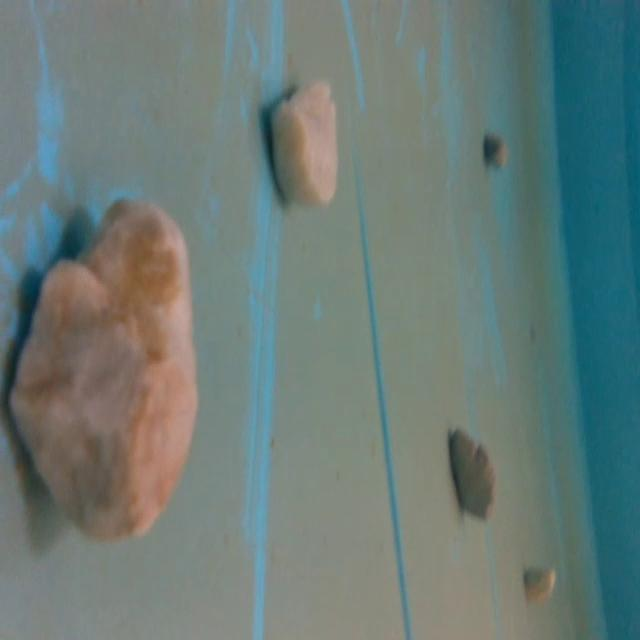rock: (0, 190, 206, 553), (266, 70, 347, 217), (444, 417, 497, 526), (519, 564, 563, 604), (479, 129, 508, 174)
